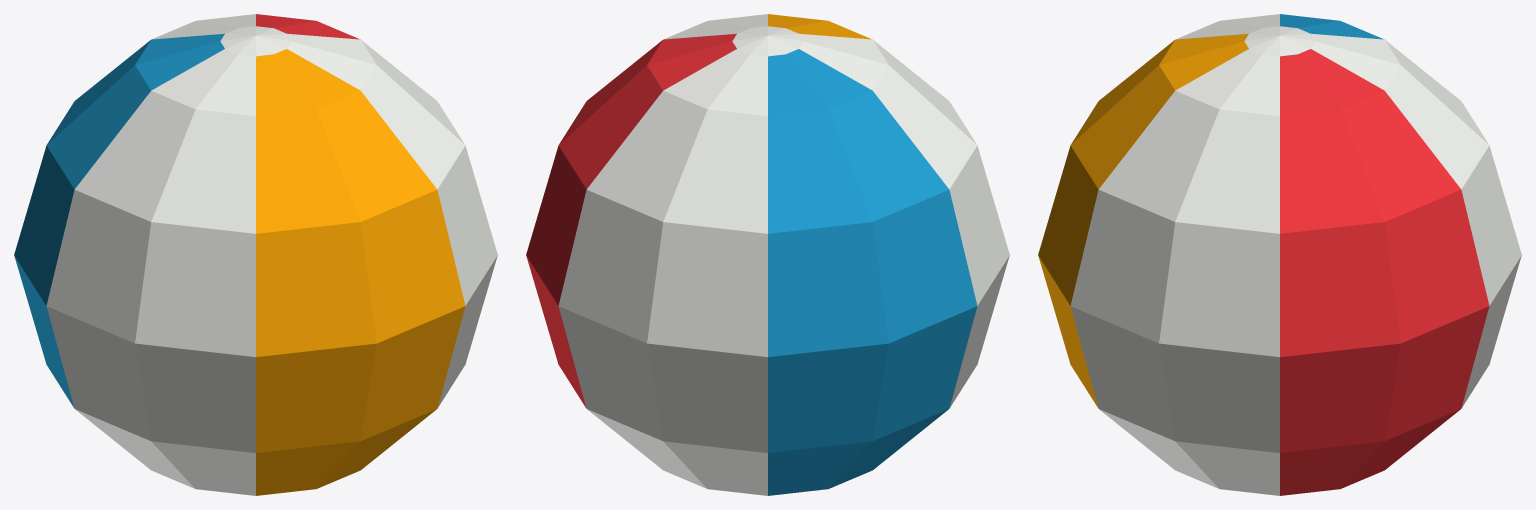
File: beachball.FBX
3 renders of one model, left to right at view 1: azimuth 30°, elevation 25°; view 2: azimuth 150°, elevation 25°; view 3: azimuth 270°, elevation 25°, orthographic.
Parts seen in each view (by area): view 1: beachball; view 2: beachball; view 3: beachball.
Boxes of the visible parts, x1=… form: beachball: x1=14, y1=14, x2=497, y2=495; beachball: x1=526, y1=14, x2=1009, y2=495; beachball: x1=1038, y1=14, x2=1521, y2=495.
Size of the model in its own units: 0.2575 by 0.2575 by 0.2575.
